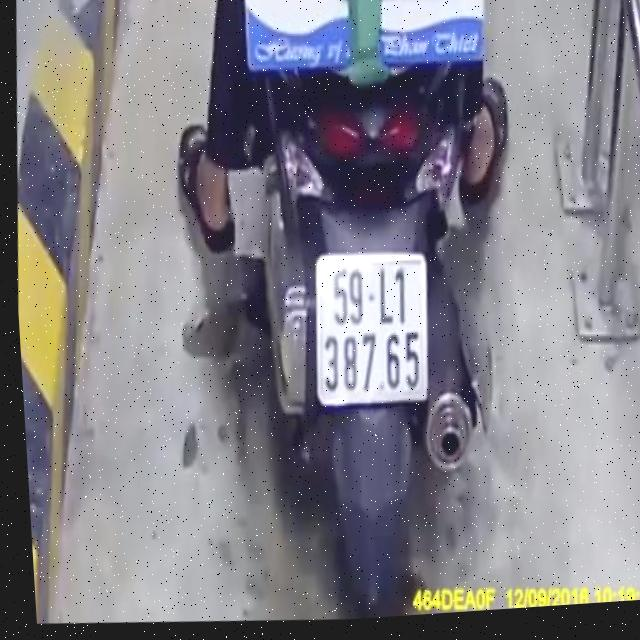motorcycle: (210, 44, 534, 626)
plate: (304, 244, 443, 414)
